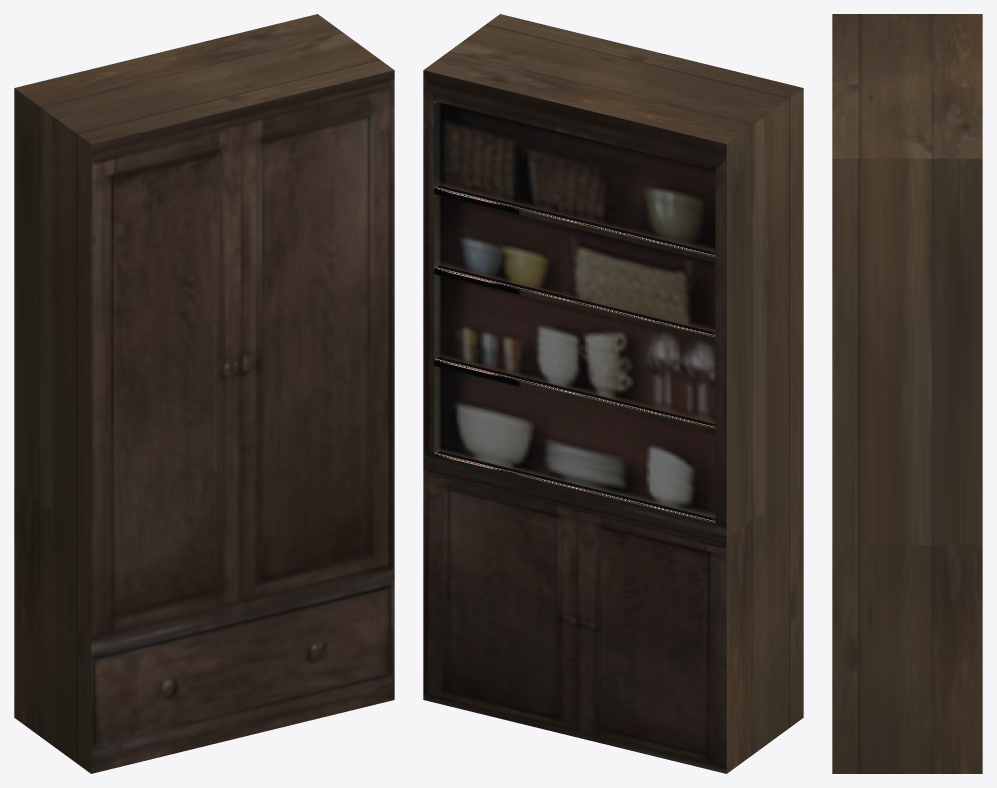
Rendered from Closet 1.FBX.
The picture shows the model from 3 angles, left to right: view 1: azimuth 30°, elevation 25°; view 2: azimuth 150°, elevation 25°; view 3: azimuth 270°, elevation 25°; orthographic projection. The views are drawn at different scales.
Visible parts, largest first — view 1: wood wall 036; view 2: wood wall 036; view 3: wood wall 036.
Boxes of the visible parts, left/top/right/bottom form: wood wall 036: left=14, top=14, right=394, bottom=773; wood wall 036: left=423, top=14, right=803, bottom=773; wood wall 036: left=832, top=14, right=982, bottom=773.
Size of the model in its own units: 29.65 by 58.8 by 13.
1 material, 1 textured.
